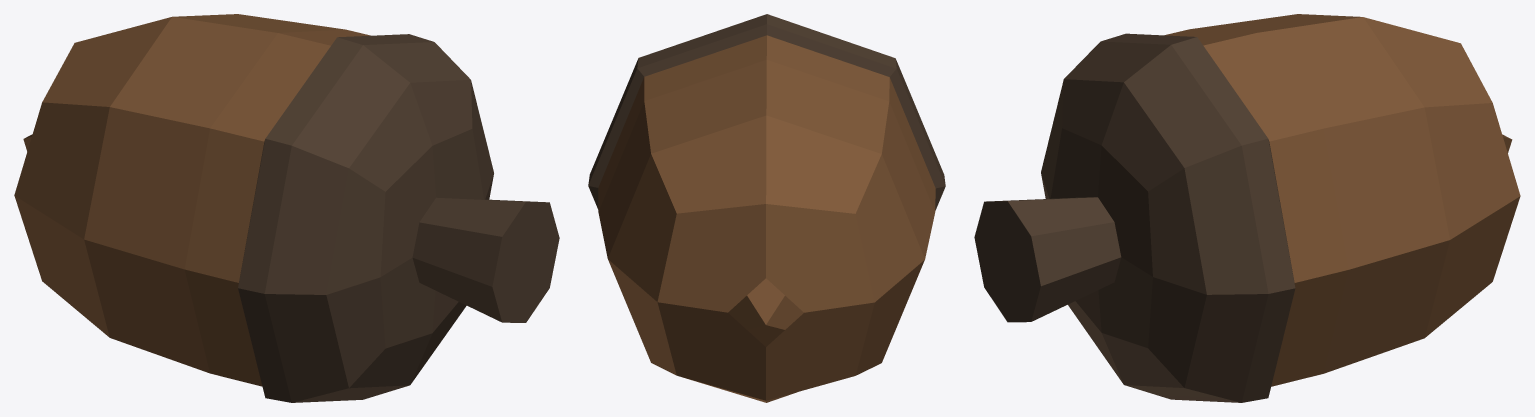
Rendered from dotori11.gltf.
3 views of the same model, side by side, from view 1: azimuth 30°, elevation 25°; view 2: azimuth 150°, elevation 25°; view 3: azimuth 270°, elevation 25° (orthographic). The views are drawn at different scales.
Parts seen in each view (by area): view 1: Cube.006_Cube.012, Cube.005_Cube.012; view 2: Cube.005_Cube.012, Cube.006_Cube.012; view 3: Cube.006_Cube.012, Cube.005_Cube.012.
Part boxes in pixels (box(x1,y1,x2,y2)): Cube.006_Cube.012: box(238, 34, 559, 402); Cube.005_Cube.012: box(14, 14, 370, 386); Cube.005_Cube.012: box(598, 35, 935, 402); Cube.006_Cube.012: box(588, 14, 945, 210); Cube.006_Cube.012: box(974, 33, 1295, 402); Cube.005_Cube.012: box(1165, 14, 1520, 386).
Bounding box in the file's own units: 2.28 × 2.04 × 2.82.
